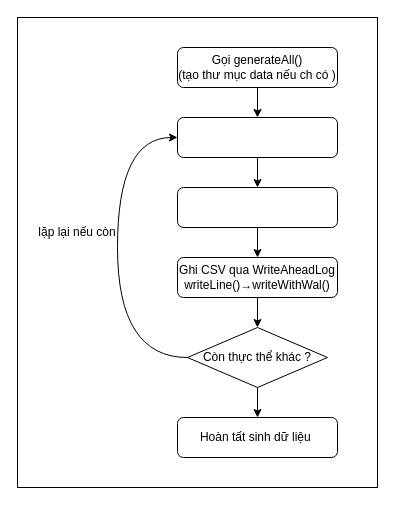
The diagram is 395 pixels wide and 505 high, and some of its shapes have lost their labels. Each missing label, with the centre of its shape:
"Chọn thực thể tiếp theo (vd: player, fan,.)" goes at point 257,137.
"Sinh N dòng ngẫu nhiên (random)" goes at point 257,207.
